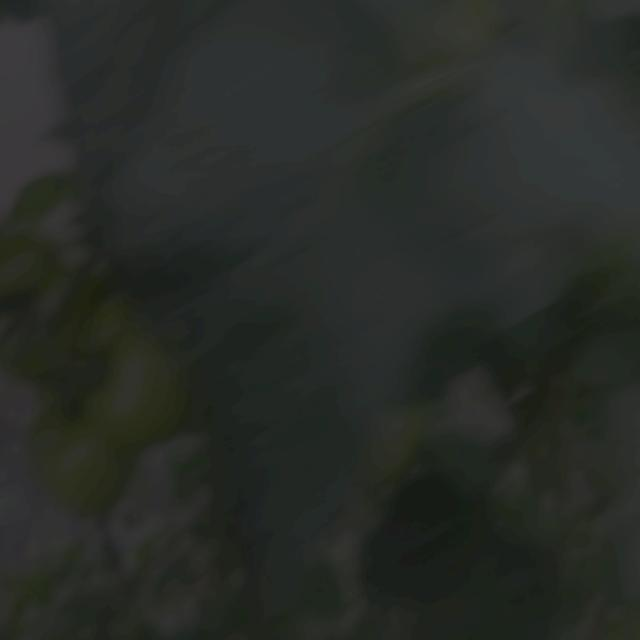tomato: (68, 326, 187, 443), (35, 410, 145, 534), (363, 389, 424, 482), (5, 316, 62, 390), (1, 238, 48, 297), (78, 297, 131, 330)
